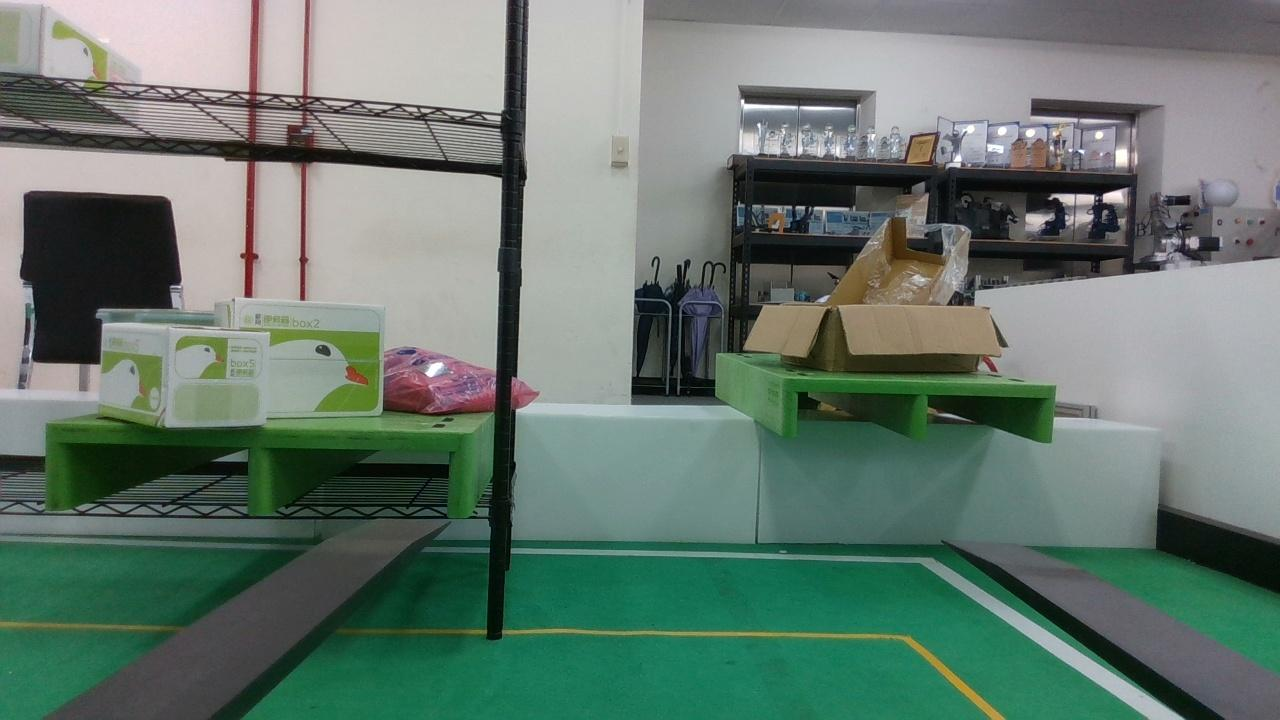Pallet: (43, 420, 476, 517), (781, 377, 1055, 445)
